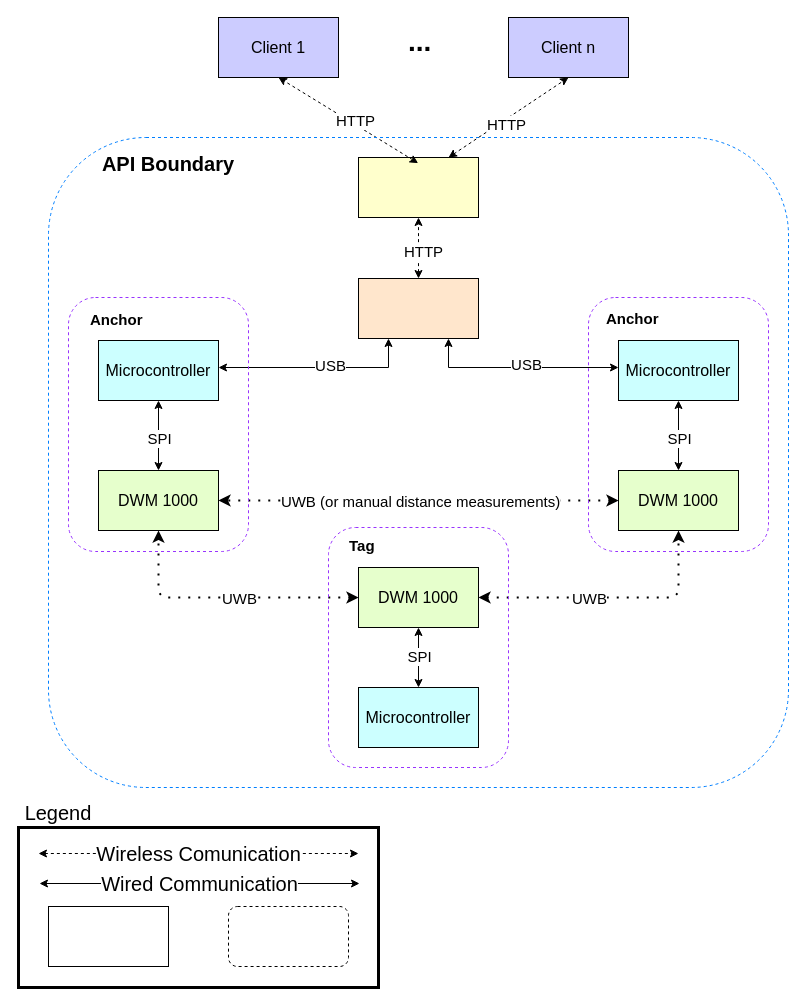
Some shapes in this 806 by 1006 pixel diagram are drawn without their labels. Here are the shapes that lost their labels. From the top down, the box of each, then its label:
(358, 156, 478, 218): Webserver & DB
(358, 278, 478, 338): Raspberry Pi
(48, 906, 168, 966): Physical Component
(228, 906, 348, 966): Logical Boundary
